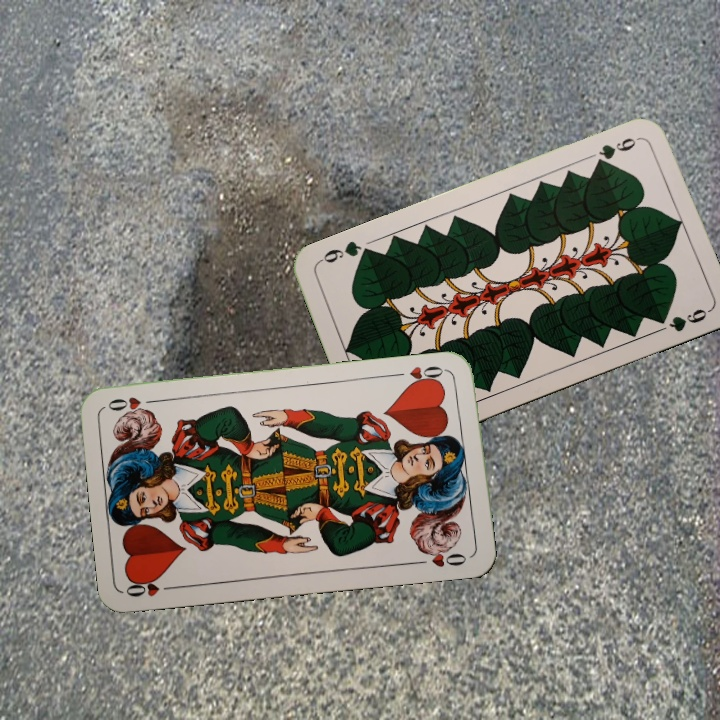G9: (591, 133, 643, 169)
HO: (392, 362, 451, 389), (122, 574, 182, 600)
